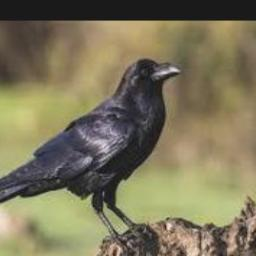Crow: (0, 57, 184, 252)
